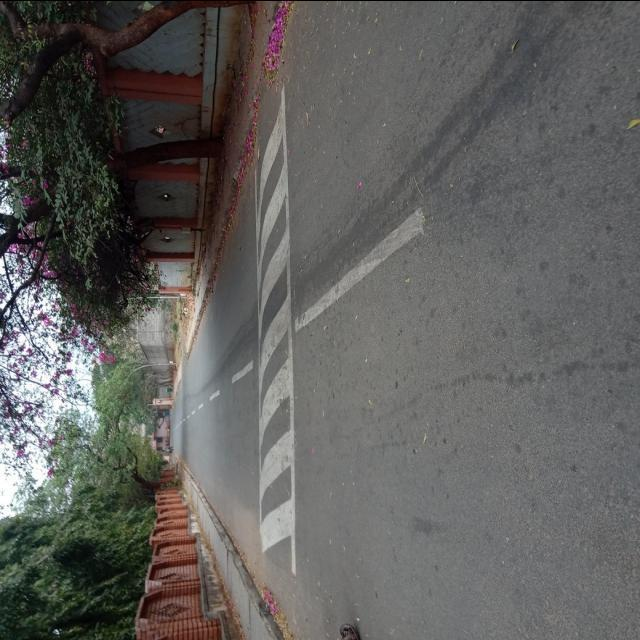speedbreaker: (248, 69, 306, 586)
